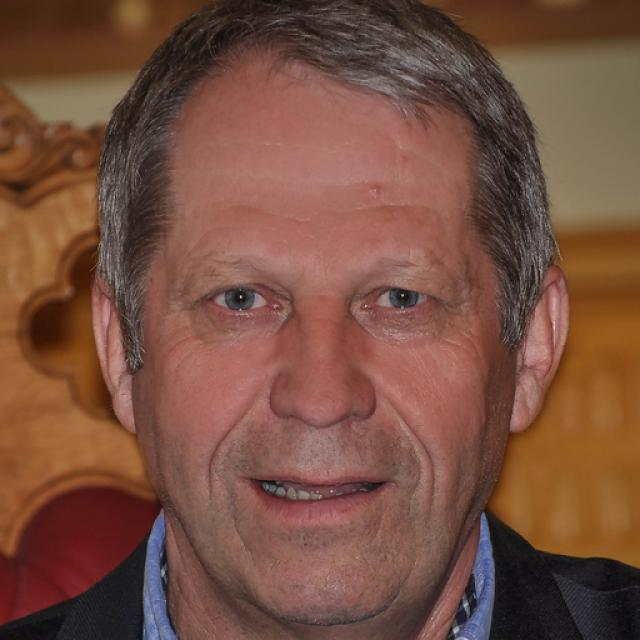Acne: (362, 176, 389, 201)
Wrinkle: (392, 401, 436, 516), (203, 403, 246, 506), (217, 195, 317, 228), (223, 505, 256, 565), (352, 197, 432, 214)
